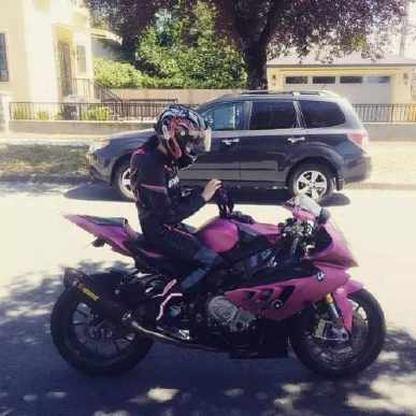target: (46, 102, 389, 386)
